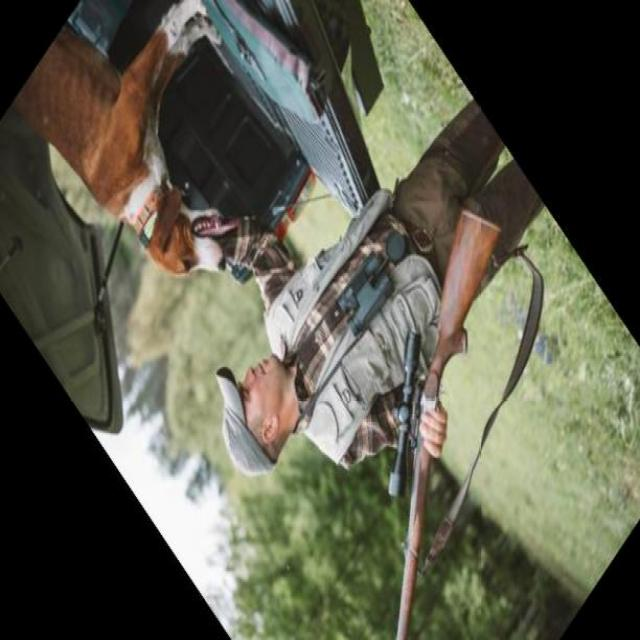heavy-weapon: (388, 209, 502, 640)
